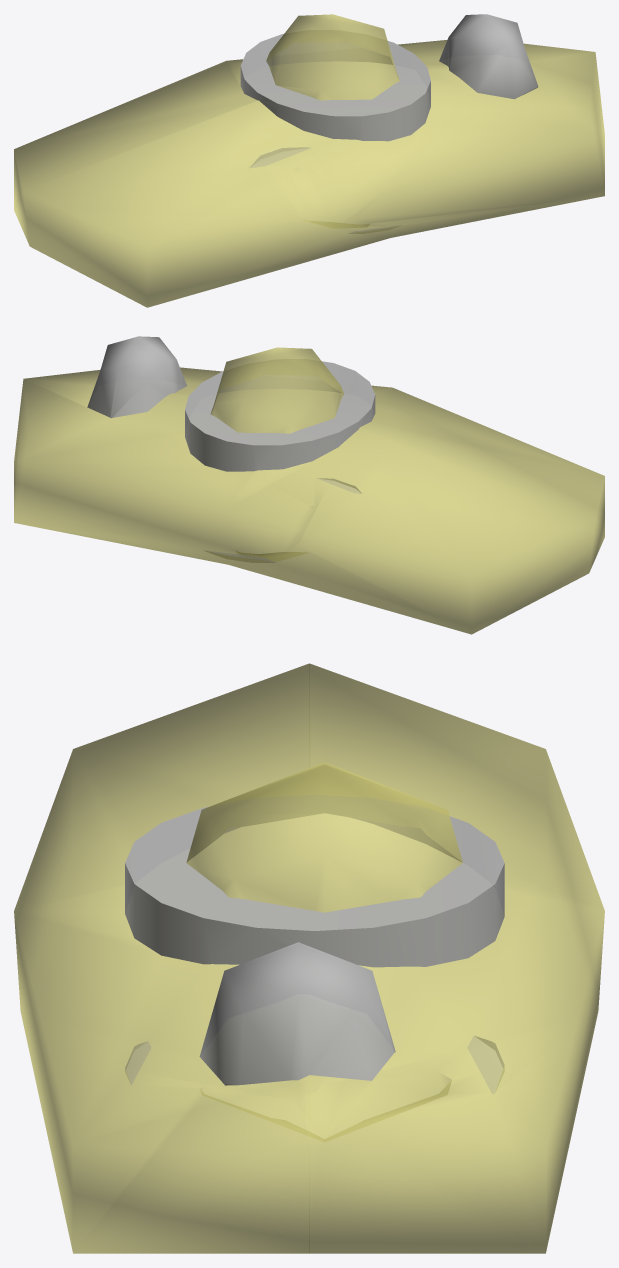
Rendered from bNote1.fbx.
3 views of the same model, one above another, from view 1: azimuth 30°, elevation 25°; view 2: azimuth 150°, elevation 25°; view 3: azimuth 270°, elevation 25° (orthographic). The views are drawn at different scales.
Parts seen in each view (by area): view 1: polySurface14; view 2: polySurface14; view 3: polySurface14.
Boxes of the visible parts, bbox=[...] form: polySurface14: bbox=[14, 14, 604, 307]; polySurface14: bbox=[14, 336, 604, 634]; polySurface14: bbox=[14, 663, 604, 1253].
Bounding box in the file's own units: 3.62 × 1.3 × 1.83.
